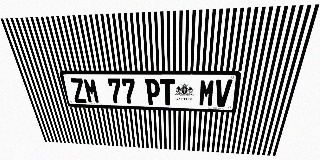7: (106, 78, 123, 104), (120, 78, 137, 104)
M: (198, 79, 216, 107), (83, 78, 100, 103)
P: (145, 79, 160, 105)
T: (160, 79, 175, 105)
V: (214, 79, 232, 107)
Z: (69, 78, 87, 103)
